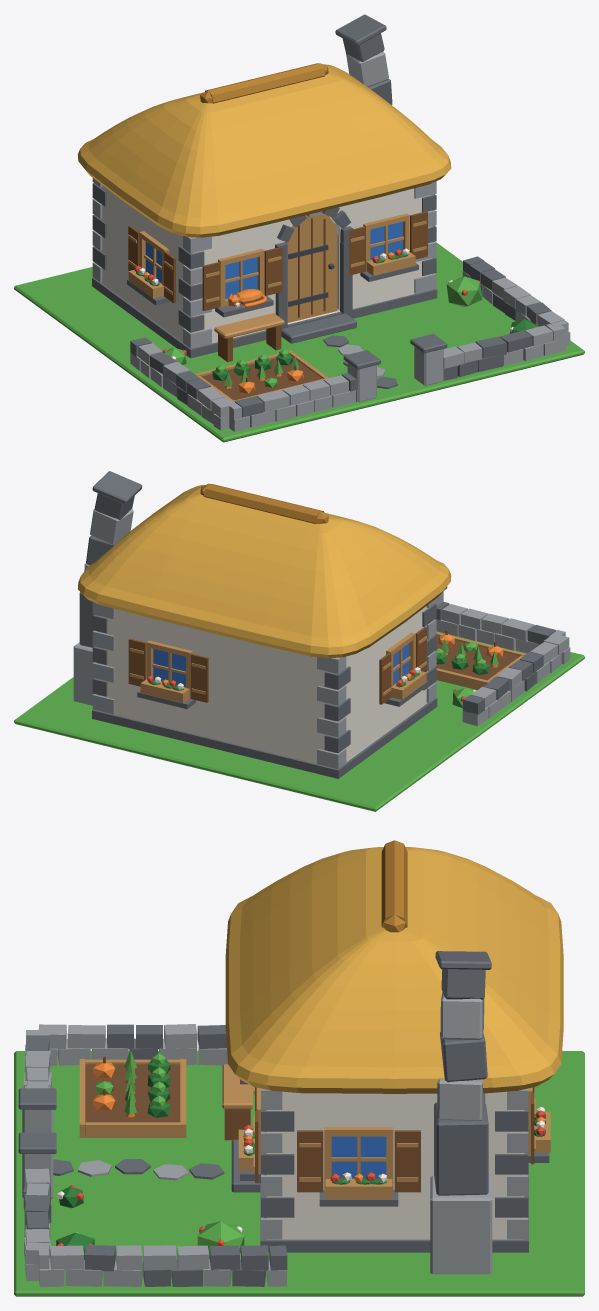
File: thatched-storybook-cottage.glb
3 renders of one model, top to bottom at view 1: azimuth 30°, elevation 25°; view 2: azimuth 150°, elevation 25°; view 3: azimuth 270°, elevation 25°, orthographic. The views are drawn at different scales.
Parts seen in each view (by area): view 1: Roof_Thatch, Ground, Walls, Door, Foundation, Roof_Ridge, VegPatch_Soil, DoorStep, Chimney_4, GatePost_1, Bench_Seat, Chimney_Cap (+12 smaller); view 2: Roof_Thatch, Walls, Ground, Foundation, Roof_Ridge, VegPatch_Soil, Chimney_0, Chimney_4, Chimney_Cap, Window_Back_Glass, Window_Back_Shutter1, Window_Back_Shutter-1 (+11 smaller); view 3: Roof_Thatch, Ground, Walls, Chimney_0, Chimney_1, VegPatch_Soil, Foundation, Roof_Ridge, Window_Right_Glass, Chimney_2, Chimney_3, Chimney_4 (+37 smaller).
Part boxes in pixels (x1,y1,x2,y2): Roof_Thatch: (77,64,451,237); Ground: (14,242,584,442); Walls: (101,185,432,343); Door: (285,213,337,322); Foundation: (92,277,437,358); Roof_Ridge: (204,63,325,103); VegPatch_Soil: (201,356,322,400); DoorStep: (281,313,356,343); Chimney_4: (346,51,388,86); GatePost_1: (414,346,443,385); Bench_Seat: (214,313,284,338); Chimney_Cap: (335,14,386,45); Roof_Thatch: (78,485,451,658); Walls: (97,606,427,763); Ground: (14,631,584,811); Foundation: (92,698,437,778); Roof_Ridge: (204,483,324,523); VegPatch_Soil: (435,636,519,680); Chimney_0: (73,642,93,705); Chimney_4: (90,509,133,545); Chimney_Cap: (92,471,142,504); Window_Back_Glass: (153,649,185,687); Window_Back_Shutter1: (190,653,208,702); Window_Back_Shutter-1: (128,638,146,686); Roof_Thatch: (225,847,563,1093); Ground: (14,1051,584,1296); Walls: (264,1091,524,1239); Chimney_0: (430,1175,492,1274); Chimney_1: (434,1102,488,1195); VegPatch_Soil: (85,1064,180,1134); Foundation: (260,1163,528,1252); Roof_Ridge: (381,840,407,927); Window_Right_Glass: (331,1136,386,1178); Chimney_2: (437,1079,485,1120); Chimney_3: (440,1032,487,1082); Chimney_4: (440,992,484,1040).
Size of the model in its own units: 24 by 14.25 by 24.
